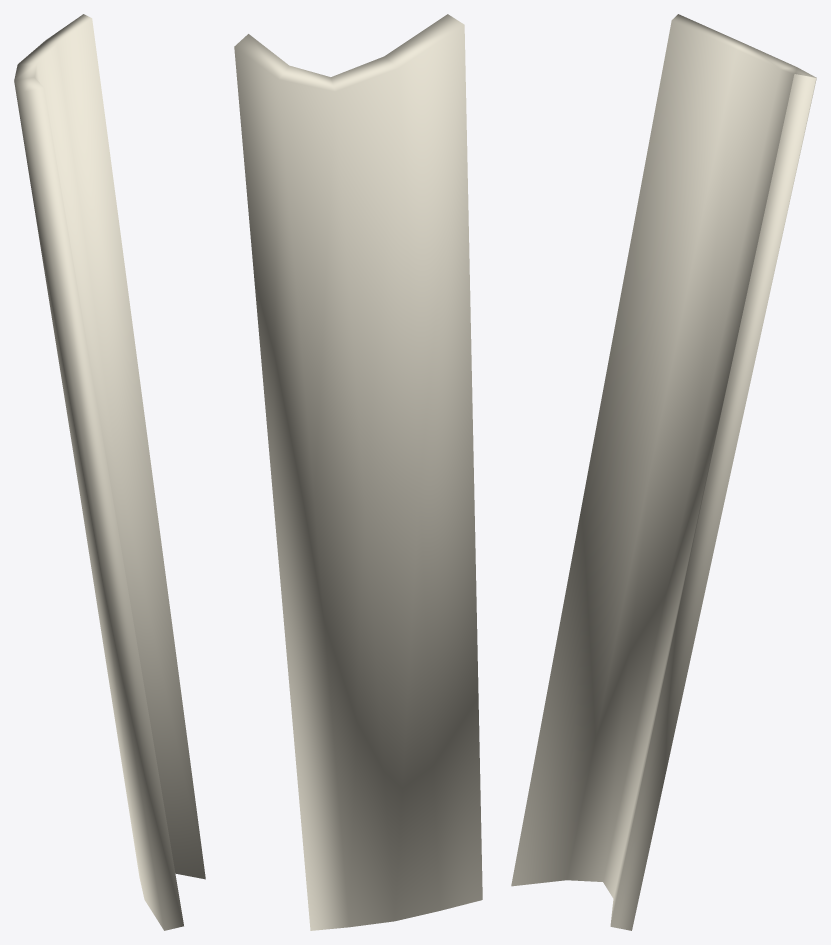
3 renders of one model, left to right at view 1: azimuth 30°, elevation 25°; view 2: azimuth 150°, elevation 25°; view 3: azimuth 270°, elevation 25°, orthographic. The views are drawn at different scales.
Parts seen in each view (by area): view 1: ZA_9c14d4188fa60327; view 2: ZA_9c14d4188fa60327; view 3: ZA_9c14d4188fa60327.
Part boxes in pixels (x1,y1,x2,y2): ZA_9c14d4188fa60327: (14,14,205,930); ZA_9c14d4188fa60327: (234,14,482,930); ZA_9c14d4188fa60327: (511,14,816,930).
Bounding box in the file's own units: 0.00413 × 0.0212 × 0.00697.
